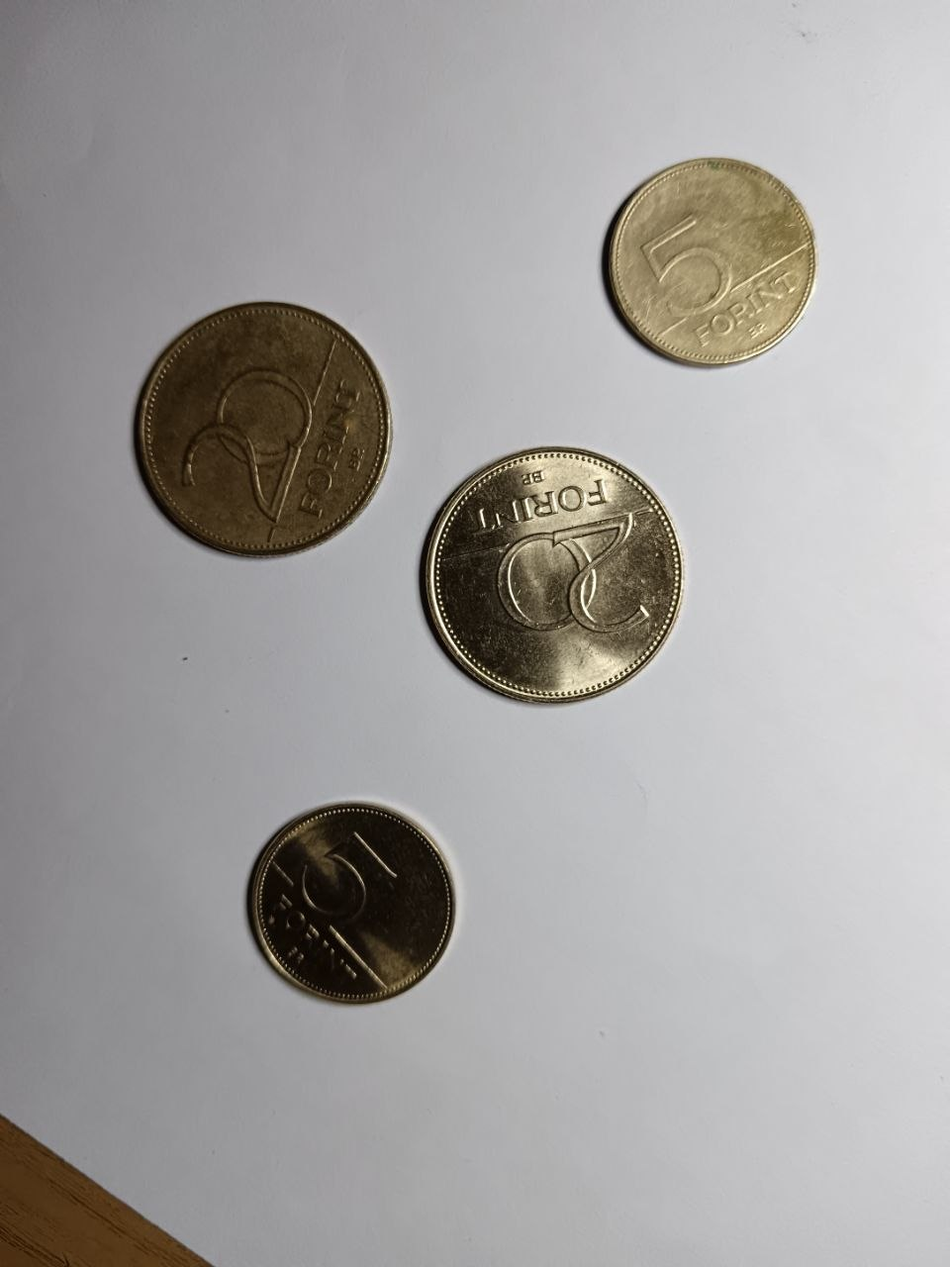20ft: (430, 453, 681, 702), (140, 306, 384, 546)
5ft: (610, 156, 815, 365), (256, 805, 450, 1003)
